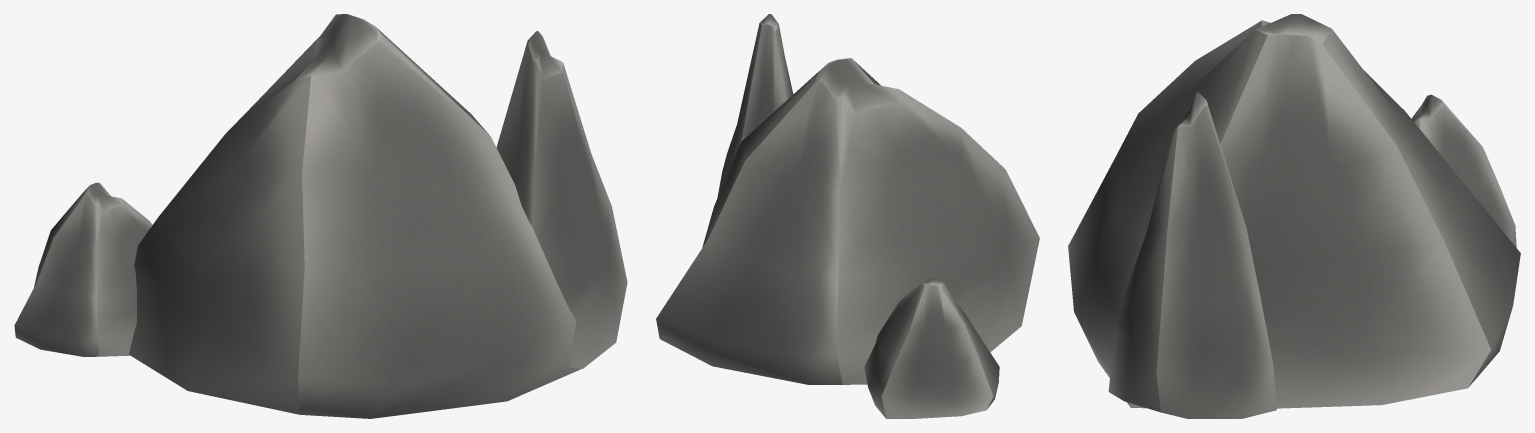
The model's file is rock.fbx.
The picture shows the model from 3 angles, left to right: view 1: azimuth 30°, elevation 25°; view 2: azimuth 150°, elevation 25°; view 3: azimuth 270°, elevation 25°; orthographic projection. The views are drawn at different scales.
Visible parts, largest first — view 1: Box001; view 2: Box001; view 3: Box001.
Part boxes in pixels (x1=…): Box001: x1=14, y1=14, x2=627, y2=418; Box001: x1=656, y1=14, x2=1039, y2=418; Box001: x1=1068, y1=14, x2=1520, y2=418.
Bounding box in the file's own units: 117 × 77.87 × 99.27.
1 material, 1 textured.
